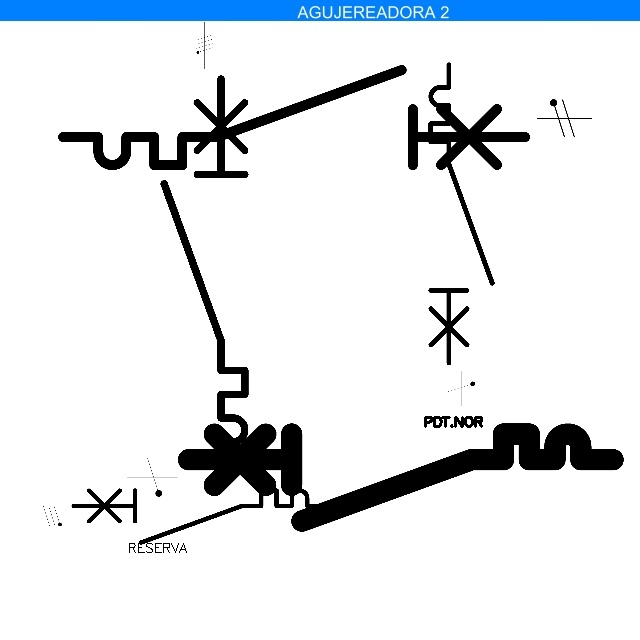interruptor_termomagnetico: (51, 58, 537, 177), (177, 423, 623, 532), (154, 68, 255, 481), (423, 57, 499, 370), (67, 484, 333, 549)
